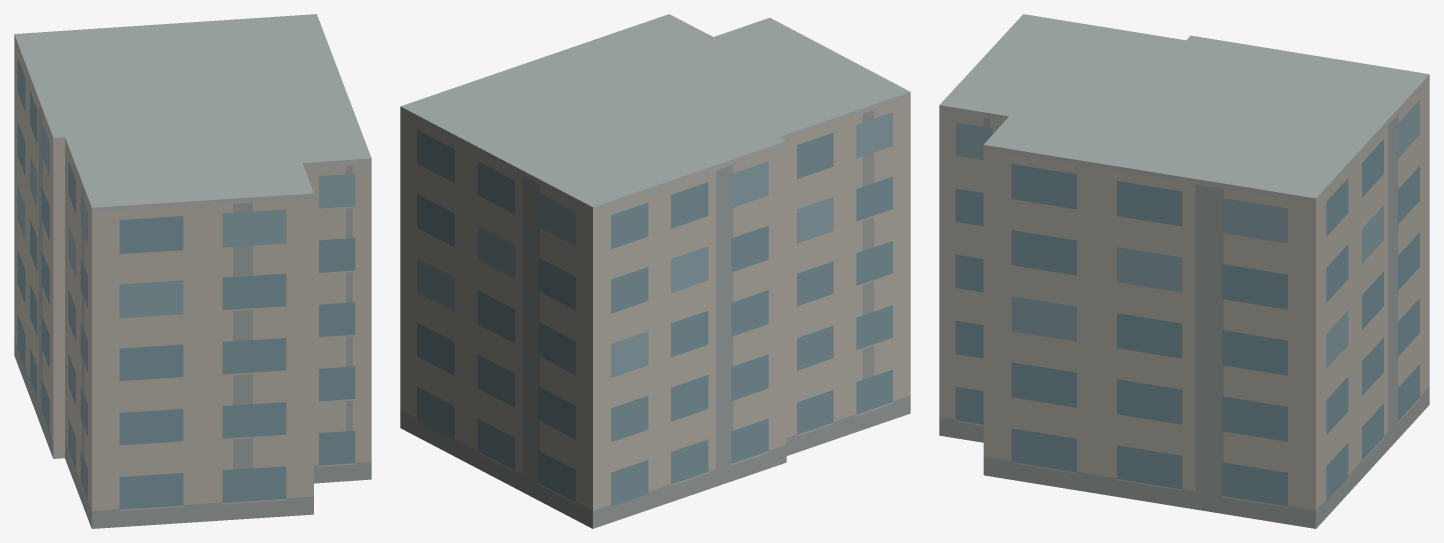
The model's file is survey-upis-32977253.glb.
3 renders of one model, left to right at view 1: azimuth 30°, elevation 25°; view 2: azimuth 150°, elevation 25°; view 3: azimuth 270°, elevation 25°, orthographic. The views are drawn at different scales.
Visible parts, largest first — view 1: survey-upis-32977253.tmp; view 2: survey-upis-32977253.tmp; view 3: survey-upis-32977253.tmp.
Part boxes in pixels (x1,y1,x2,y2): survey-upis-32977253.tmp: [14, 14, 371, 528]; survey-upis-32977253.tmp: [400, 14, 910, 528]; survey-upis-32977253.tmp: [939, 14, 1429, 528].
Size of the model in its own units: 17.6 by 14.7 by 19.78.
